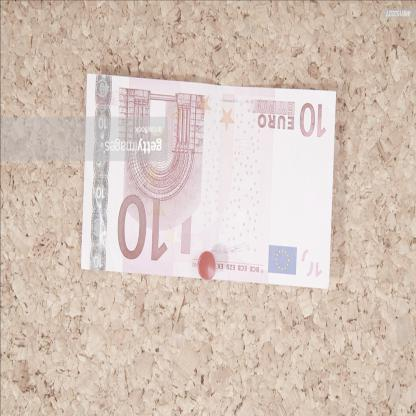euro_banknote: (81, 83, 340, 280)
